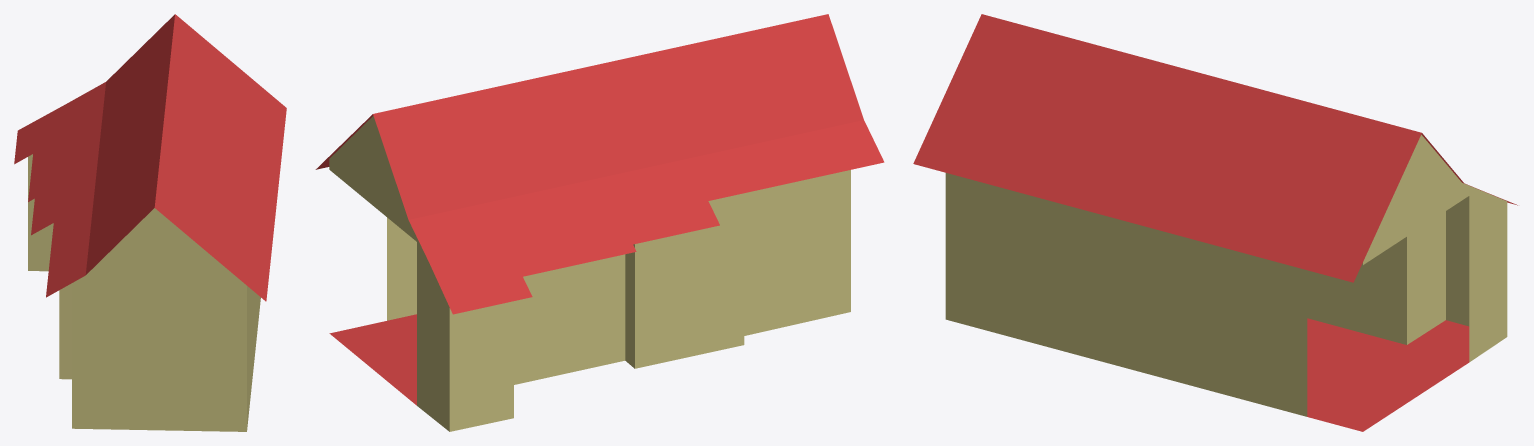
3 views of the same model, side by side, from view 1: azimuth 30°, elevation 25°; view 2: azimuth 150°, elevation 25°; view 3: azimuth 270°, elevation 25° (orthographic). The views are drawn at different scales.
Size of the model in its own units: 22.66 by 27.89 by 13.35.
